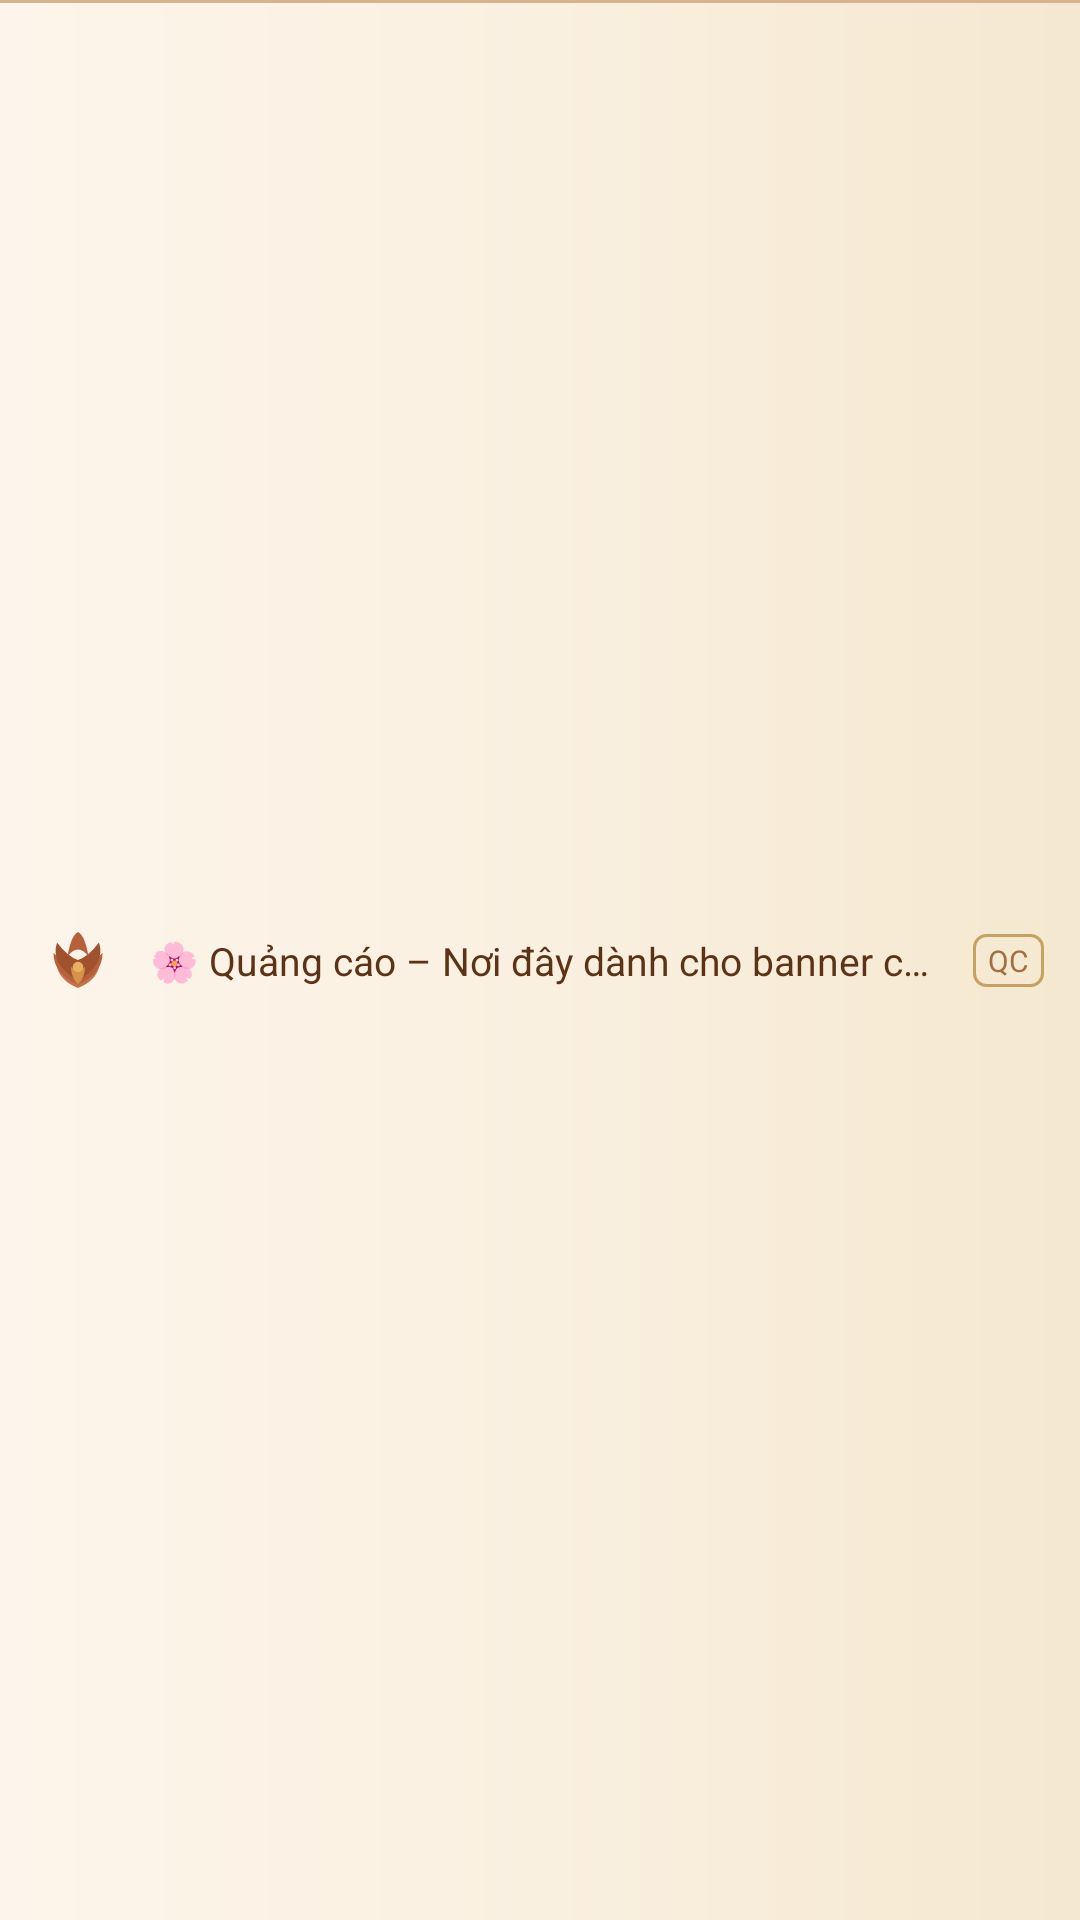

Locate icon controls on the screen. Image size 1080px×1920px, boxes as (x1, y1, x2, y2).
hoa sen: (53, 932, 103, 988)
